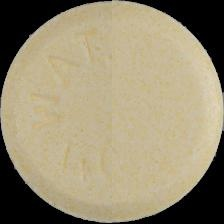0591-0409: (0, 0, 224, 224)
